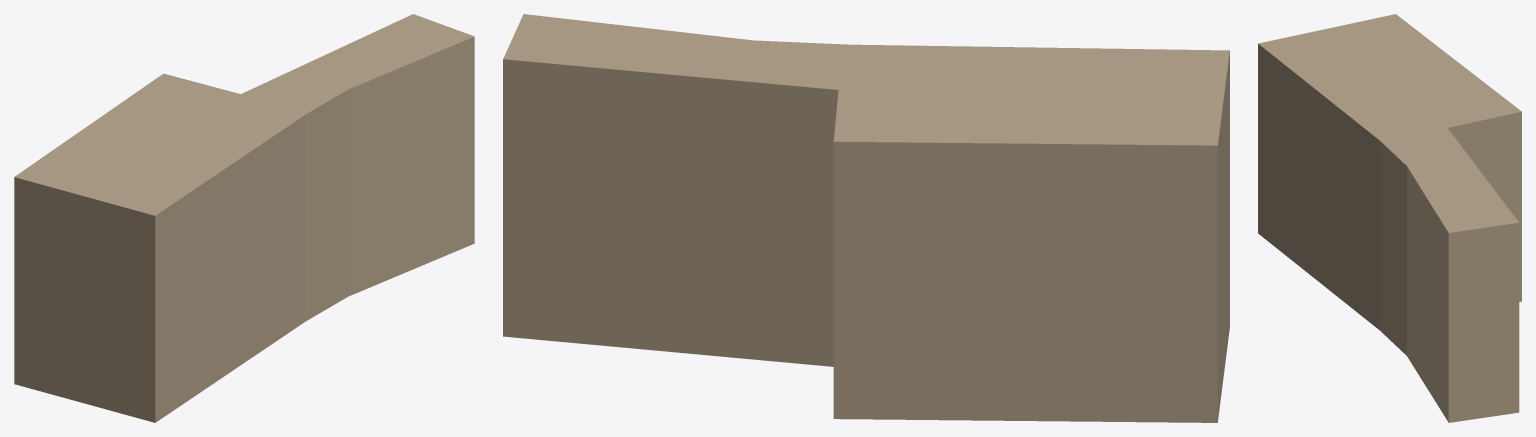
File: bld_98862358.dae
3 views of the same model, side by side, from view 1: azimuth 30°, elevation 25°; view 2: azimuth 150°, elevation 25°; view 3: azimuth 270°, elevation 25° (orthographic). The views are drawn at different scales.
Parts seen in each view (by area): view 1: bld_98862358; view 2: bld_98862358; view 3: bld_98862358.
Boxes of the visible parts, x1,y1,x2,y2 form: bld_98862358: (14, 14, 474, 422); bld_98862358: (503, 14, 1229, 422); bld_98862358: (1258, 14, 1521, 422).
Bounding box in the file's own units: 19.79 × 10.07 × 8.
